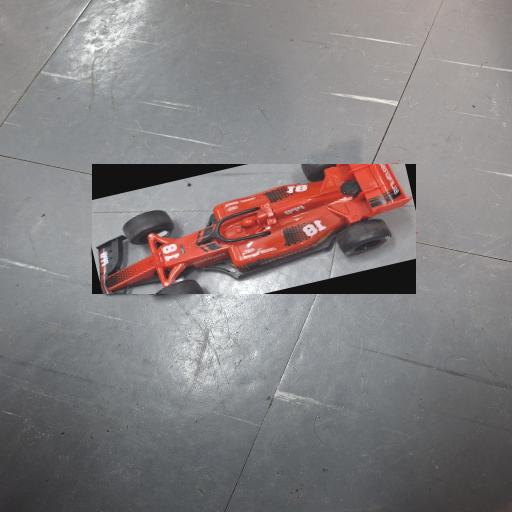carro: (91, 164, 414, 294)
